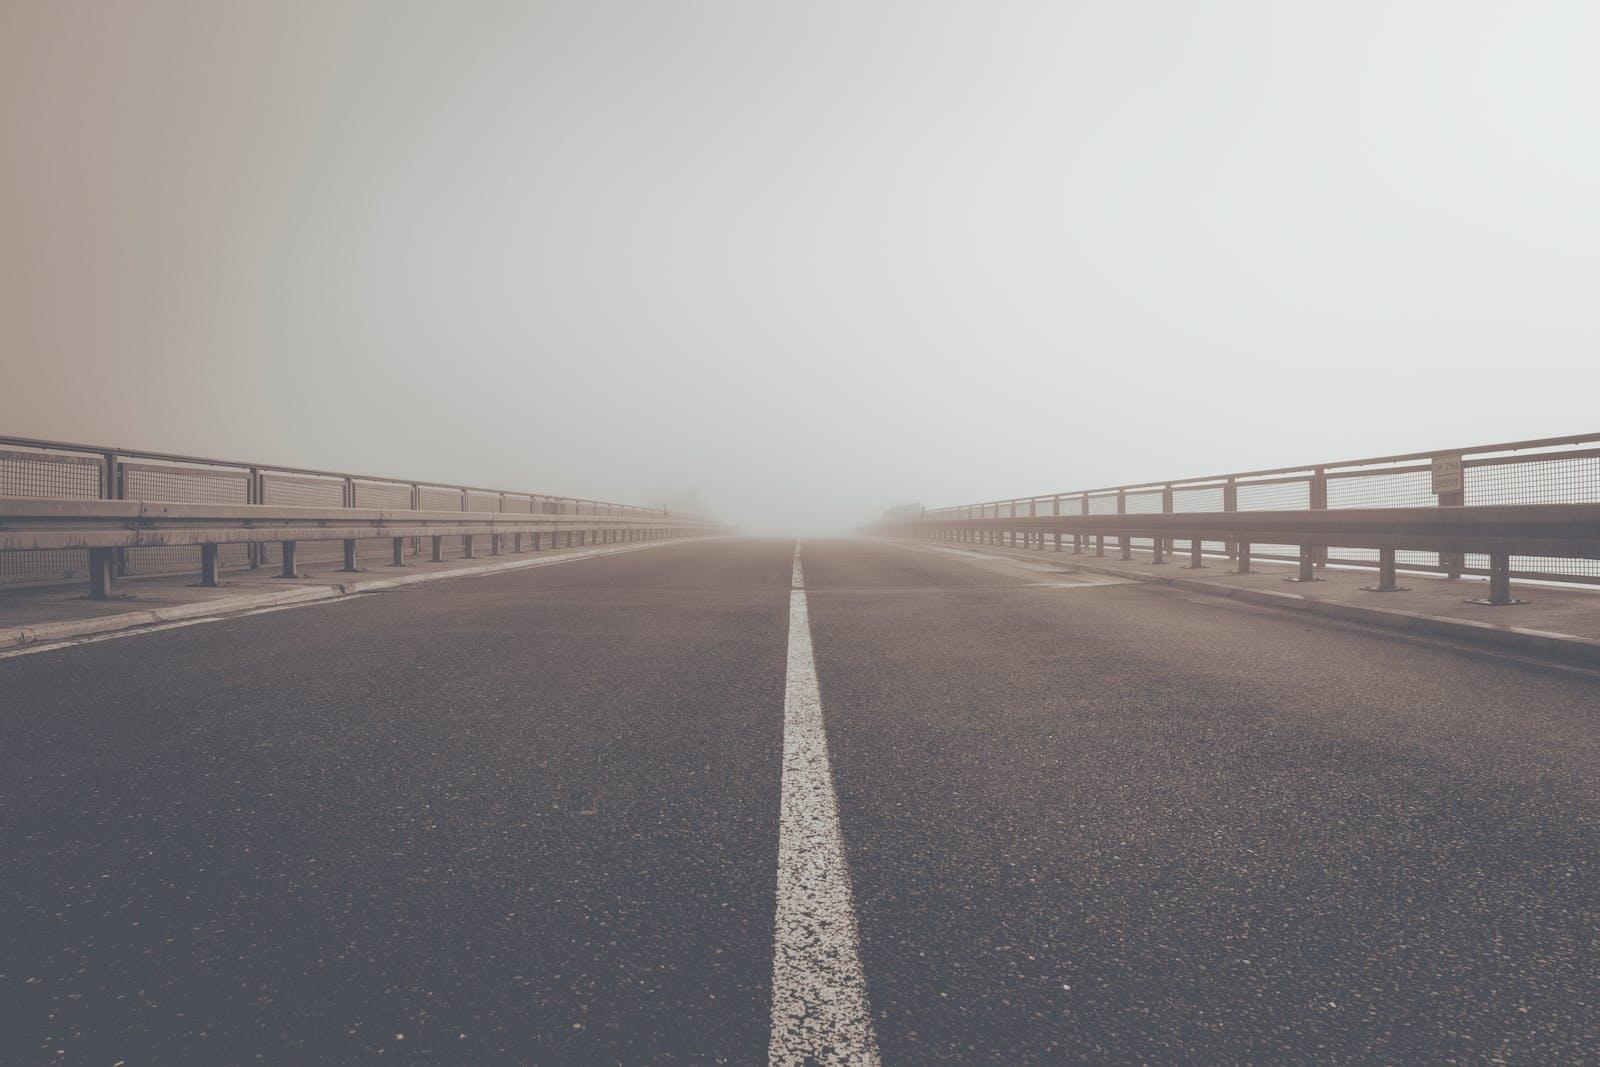road: (804, 539, 1599, 1063), (0, 539, 792, 1063)
